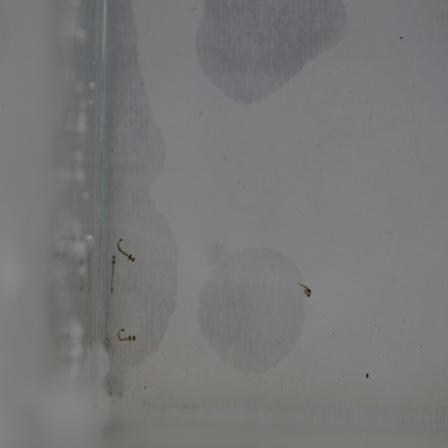Jentik-Nyamuk: (107, 235, 137, 298), (112, 323, 139, 348), (295, 277, 315, 302)
